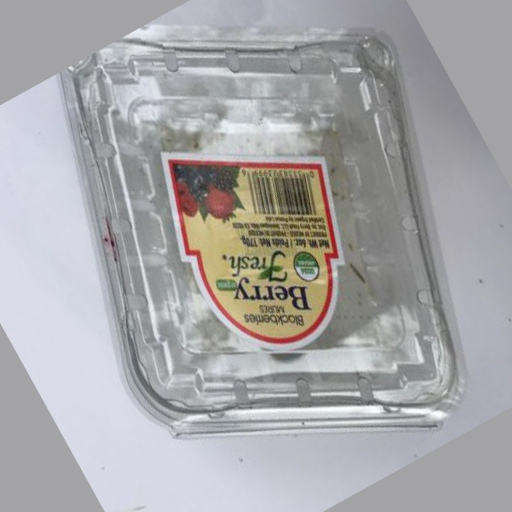Plastic_4: (58, 26, 465, 433)
